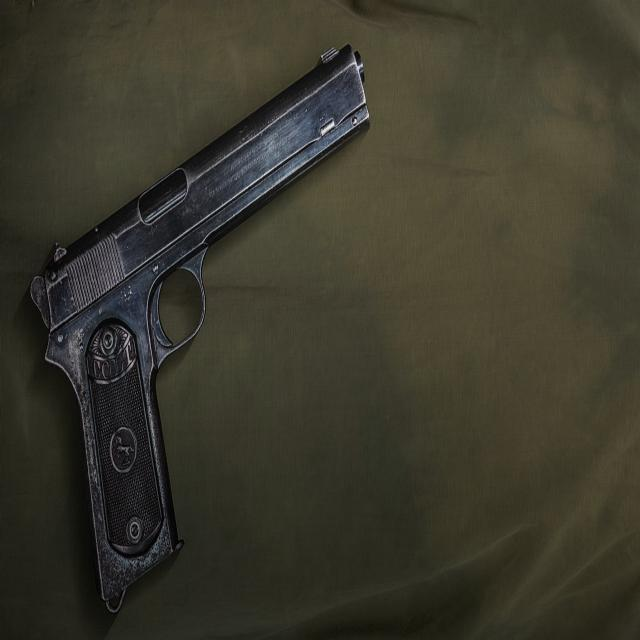Gun: (31, 45, 368, 612)
